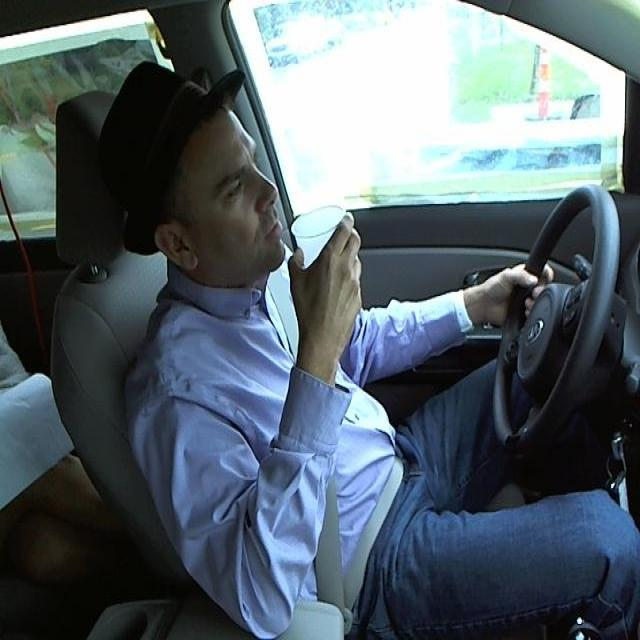drinking: (291, 199, 361, 322)
